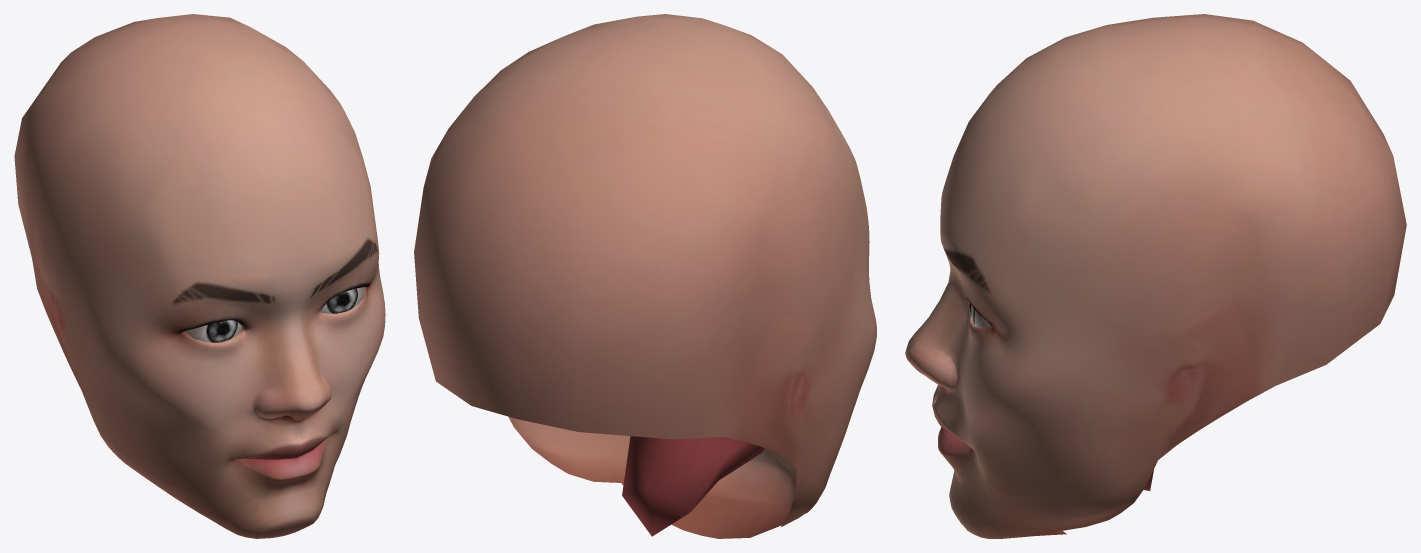
The model's file is faceonly.fbx.
The picture shows the model from 3 angles, left to right: view 1: azimuth 30°, elevation 25°; view 2: azimuth 150°, elevation 25°; view 3: azimuth 270°, elevation 25°; orthographic projection. The views are drawn at different scales.
Visible parts, largest first — view 1: base; view 2: base; view 3: base.
Boxes of the visible parts, x1=… form: base: x1=14, y1=14, x2=385, y2=538; base: x1=414, y1=14, x2=876, y2=538; base: x1=905, y1=14, x2=1406, y2=538.
Size of the model in its own units: 15.4 by 22.53 by 20.72.
